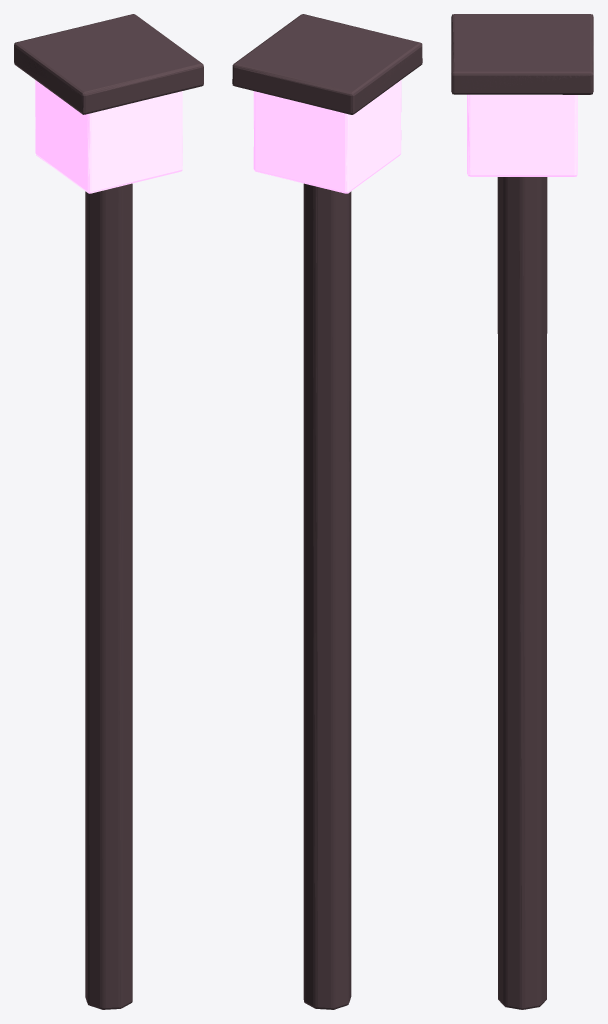
Rendered from SM_Neroberg_Lamp.fbx.
3 views of the same model, side by side, from view 1: azimuth 30°, elevation 25°; view 2: azimuth 150°, elevation 25°; view 3: azimuth 270°, elevation 25° (orthographic).
Parts seen in each view (by area): view 1: LOD0_SM_Neroberg_Lamp, LOD1_SM_Neroberg_Lamp, LOD2_SM_Neroberg_Lamp; view 2: LOD0_SM_Neroberg_Lamp, LOD1_SM_Neroberg_Lamp, LOD2_SM_Neroberg_Lamp; view 3: LOD0_SM_Neroberg_Lamp, LOD1_SM_Neroberg_Lamp, LOD2_SM_Neroberg_Lamp.
Part boxes in pixels (x1=…): LOD0_SM_Neroberg_Lamp: x1=14, y1=14, x2=203, y2=1009; LOD1_SM_Neroberg_Lamp: x1=14, y1=14, x2=203, y2=1009; LOD2_SM_Neroberg_Lamp: x1=14, y1=25, x2=203, y2=1008; LOD0_SM_Neroberg_Lamp: x1=232, y1=14, x2=422, y2=1009; LOD1_SM_Neroberg_Lamp: x1=232, y1=22, x2=422, y2=1009; LOD2_SM_Neroberg_Lamp: x1=233, y1=14, x2=422, y2=1009; LOD0_SM_Neroberg_Lamp: x1=451, y1=14, x2=593, y2=1009; LOD1_SM_Neroberg_Lamp: x1=451, y1=14, x2=593, y2=1009; LOD2_SM_Neroberg_Lamp: x1=452, y1=14, x2=592, y2=1009.
Bounding box in the file's own units: 0.45 × 3.34 × 0.45.
